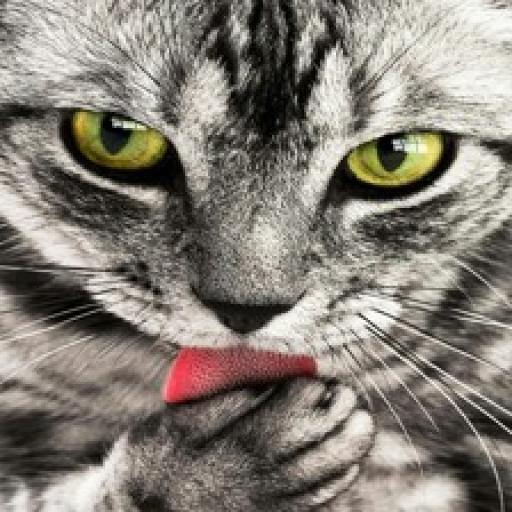cat: (0, 3, 509, 512)
